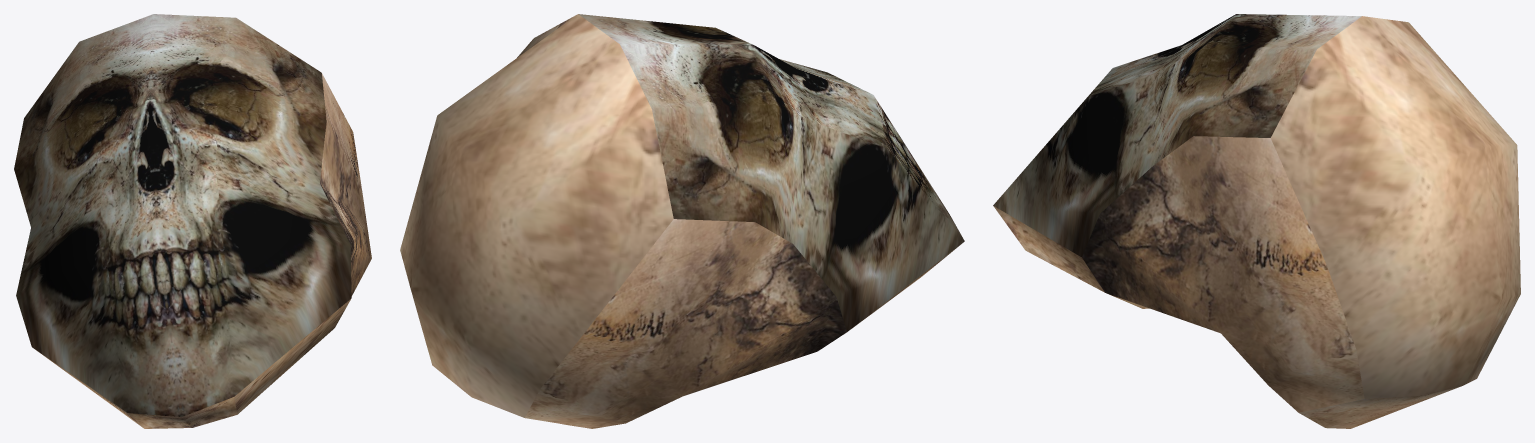
The model's file is LowPolySkull.fbx.
The picture shows the model from 3 angles, left to right: view 1: azimuth 30°, elevation 25°; view 2: azimuth 150°, elevation 25°; view 3: azimuth 270°, elevation 25°; orthographic projection. The views are drawn at different scales.
Visible parts, largest first — view 1: RetopoFlow.002; view 2: RetopoFlow.002; view 3: RetopoFlow.002.
Boxes of the visible parts, x1,y1,x2,y2 form: RetopoFlow.002: (14,14,371,428); RetopoFlow.002: (400,14,964,428); RetopoFlow.002: (993,14,1520,428).
Bounding box in the file's own units: 59.69 × 57.66 × 73.69.
